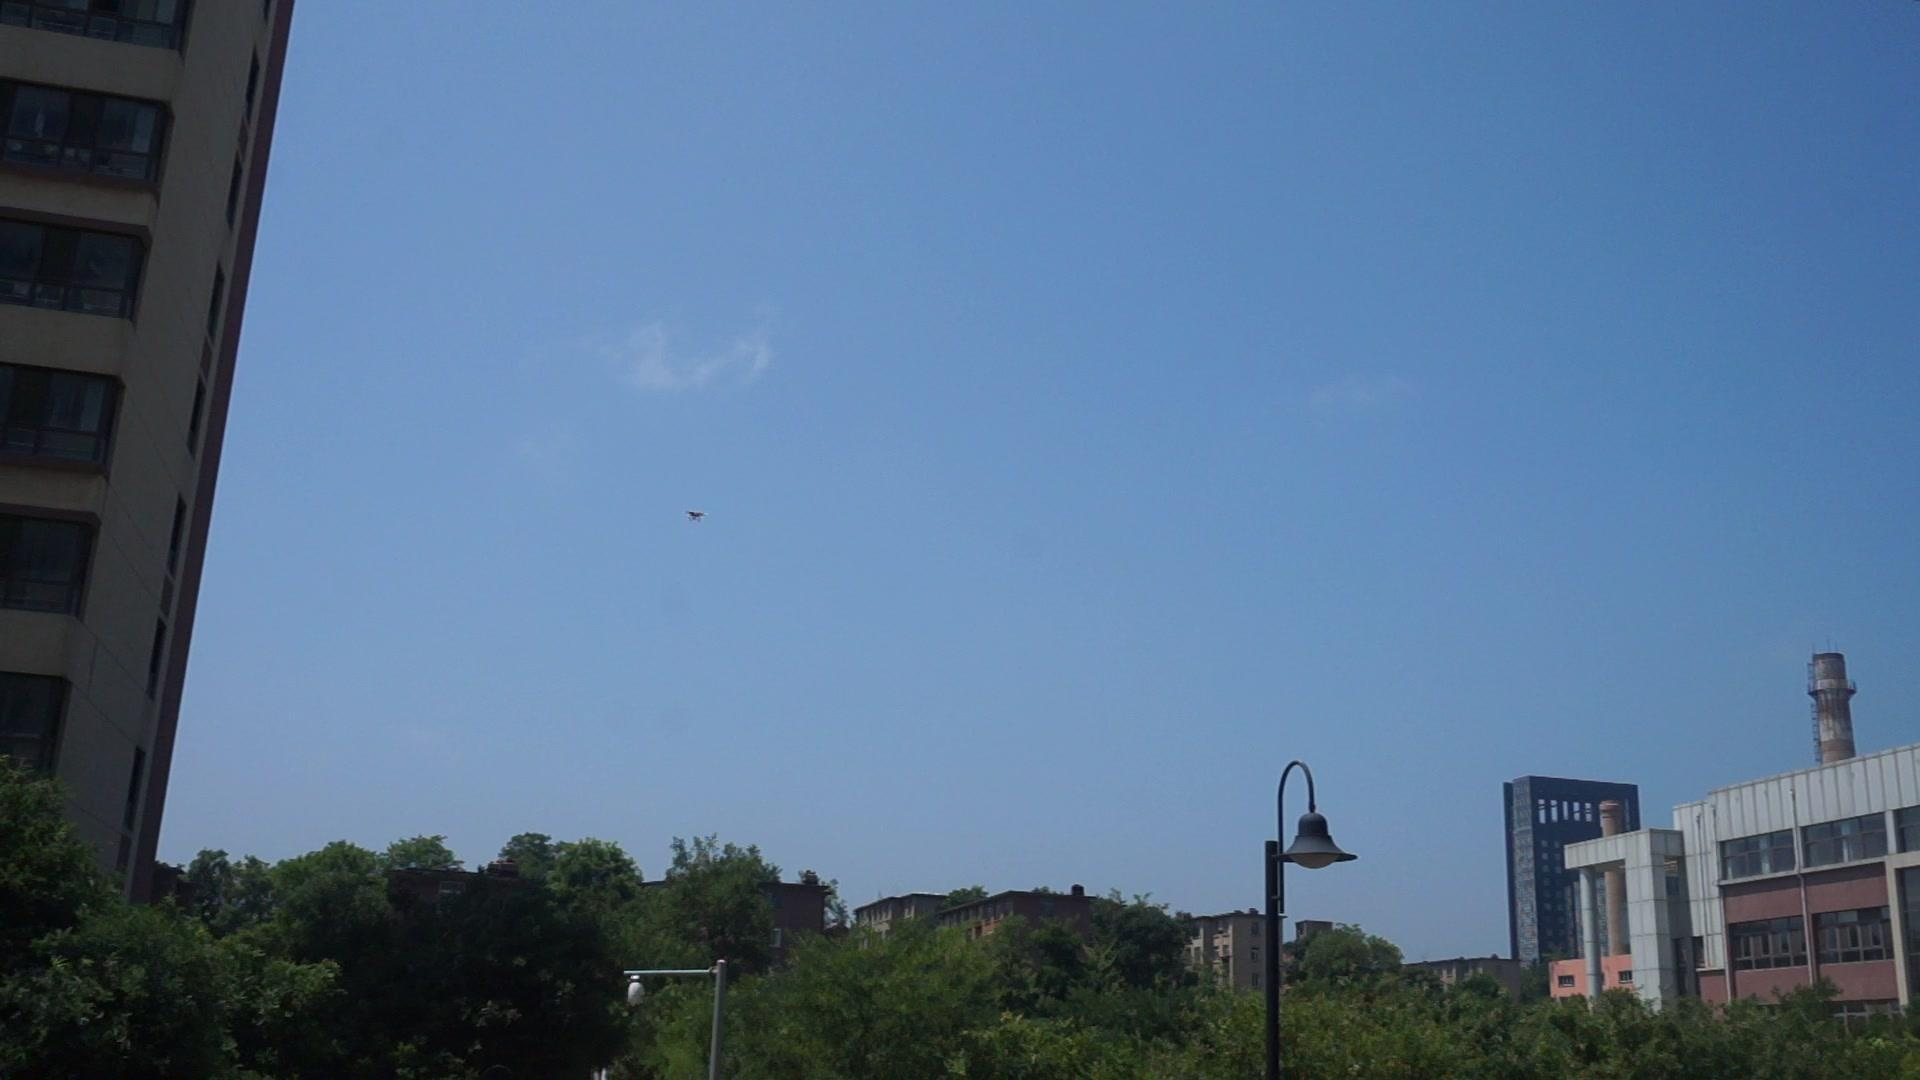UAV: (684, 510, 709, 524)
